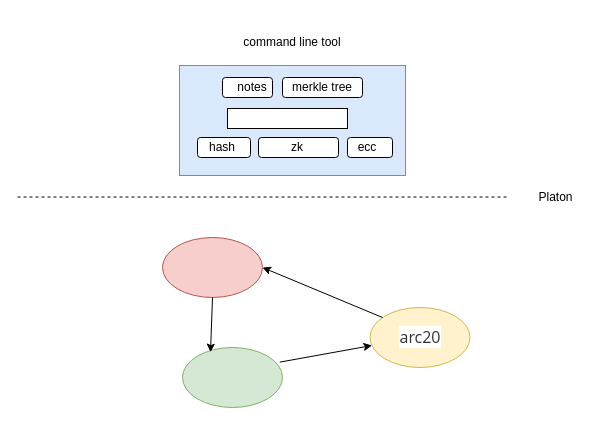
This 607x425 diagram has some shape labels left out. Here are the shapes that lost their labels. From the top down, the centre of each, then its label:
At pixel 287 118: "db".
At pixel 212 267: "privacy_arc20".
At pixel 232 377: "verify".
